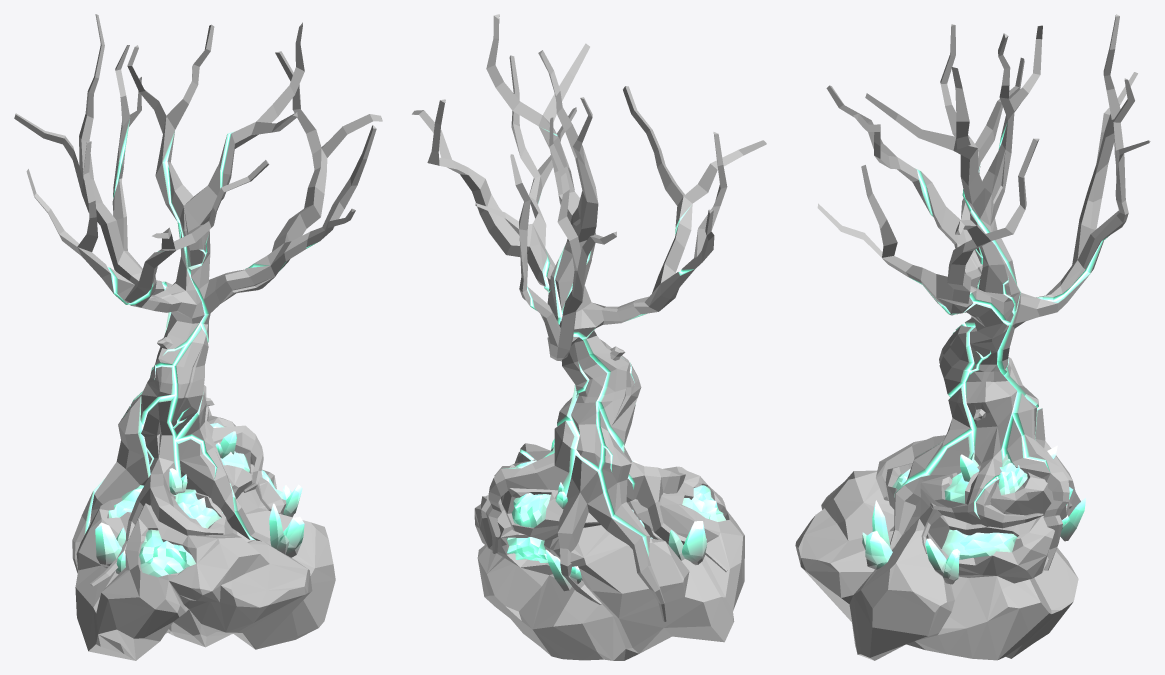
File: SM_Env_Tree_Glowing_01.fbx
The picture shows the model from 3 angles, left to right: view 1: azimuth 30°, elevation 25°; view 2: azimuth 150°, elevation 25°; view 3: azimuth 270°, elevation 25°; orthographic projection. The views are drawn at different scales.
Parts seen in each view (by area): view 1: SM_Env_Tree_Glowing_01; view 2: SM_Env_Tree_Glowing_01; view 3: SM_Env_Tree_Glowing_01.
Boxes of the visible parts, x1,y1,x2,y2 form: SM_Env_Tree_Glowing_01: (14,14,382,660); SM_Env_Tree_Glowing_01: (412,14,766,660); SM_Env_Tree_Glowing_01: (795,14,1150,660).
Size of the model in its own units: 796 by 1347 by 701.
